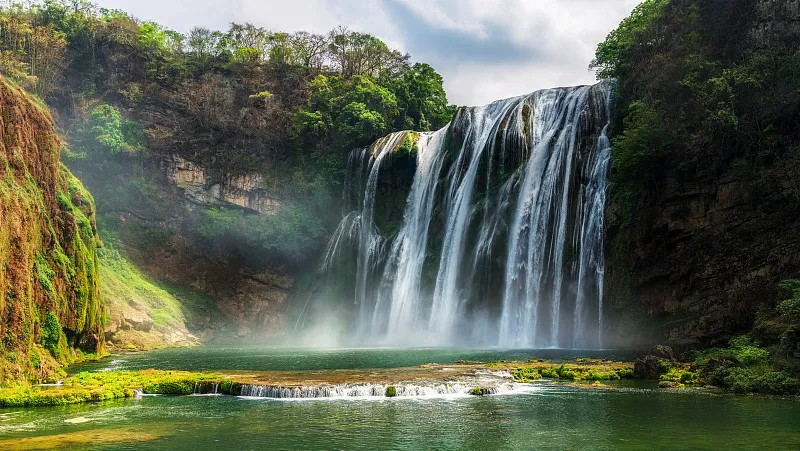Huangguoshu: (325, 80, 608, 350)
